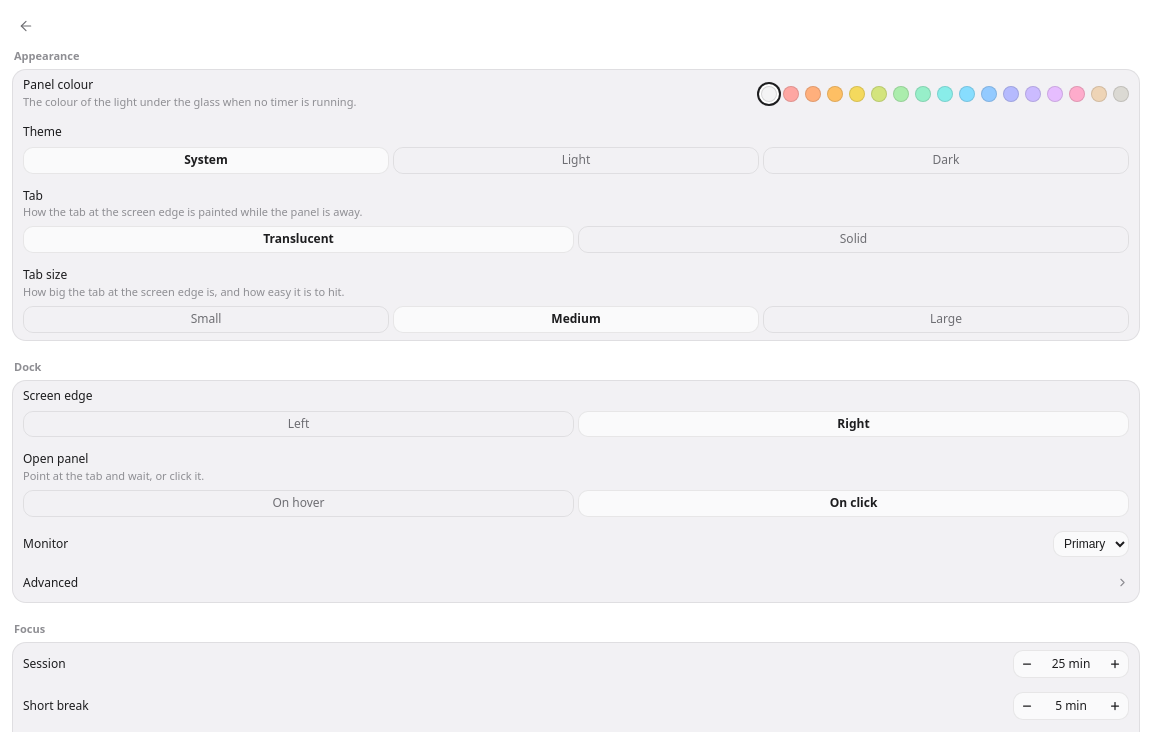
Test: open panel setting › disables the open delay in click mode, where it does nothing
What coordinates should you click on to do the following:
click the button "Advanced"
I would click on:
 (51, 582)
Its box is [13,564,1139,602].
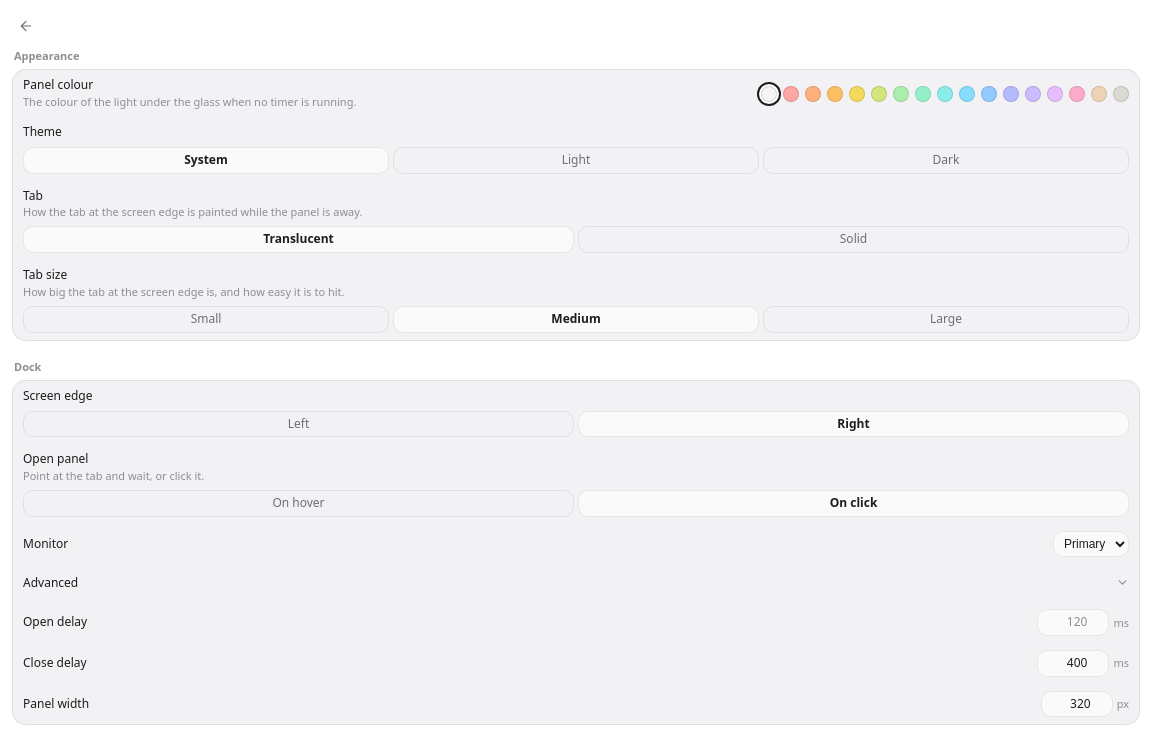
Now the number field labelled "Open delay ms" is disabled, box [1037,609,1109,636]
Now the number field labelled "Close delay ms" is enabled, box [1037,650,1109,676]
